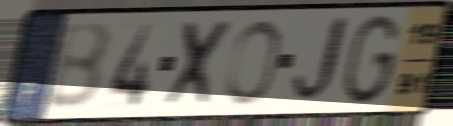4: (105, 20, 155, 110)
B: (43, 20, 114, 113)
G: (338, 11, 402, 108)
J: (288, 12, 353, 109)
O: (222, 17, 284, 108)
X: (160, 17, 238, 110)
